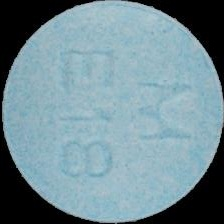0378-1054: (0, 0, 224, 224)
